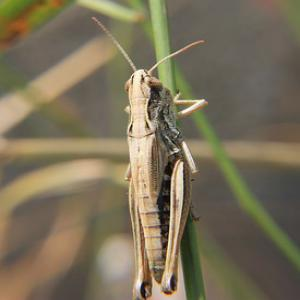locust: (97, 15, 232, 300)
